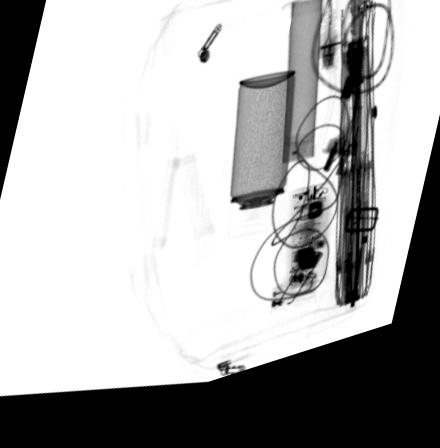Sprayer: (225, 88, 294, 254)
